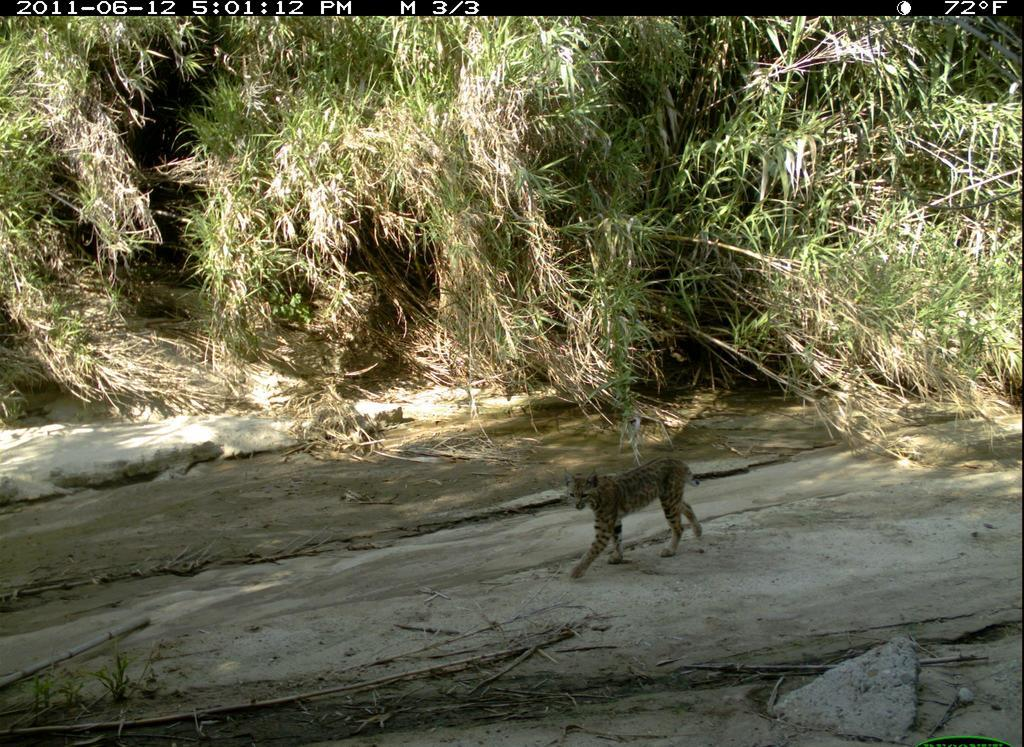bobcat: (552, 447, 720, 594)
